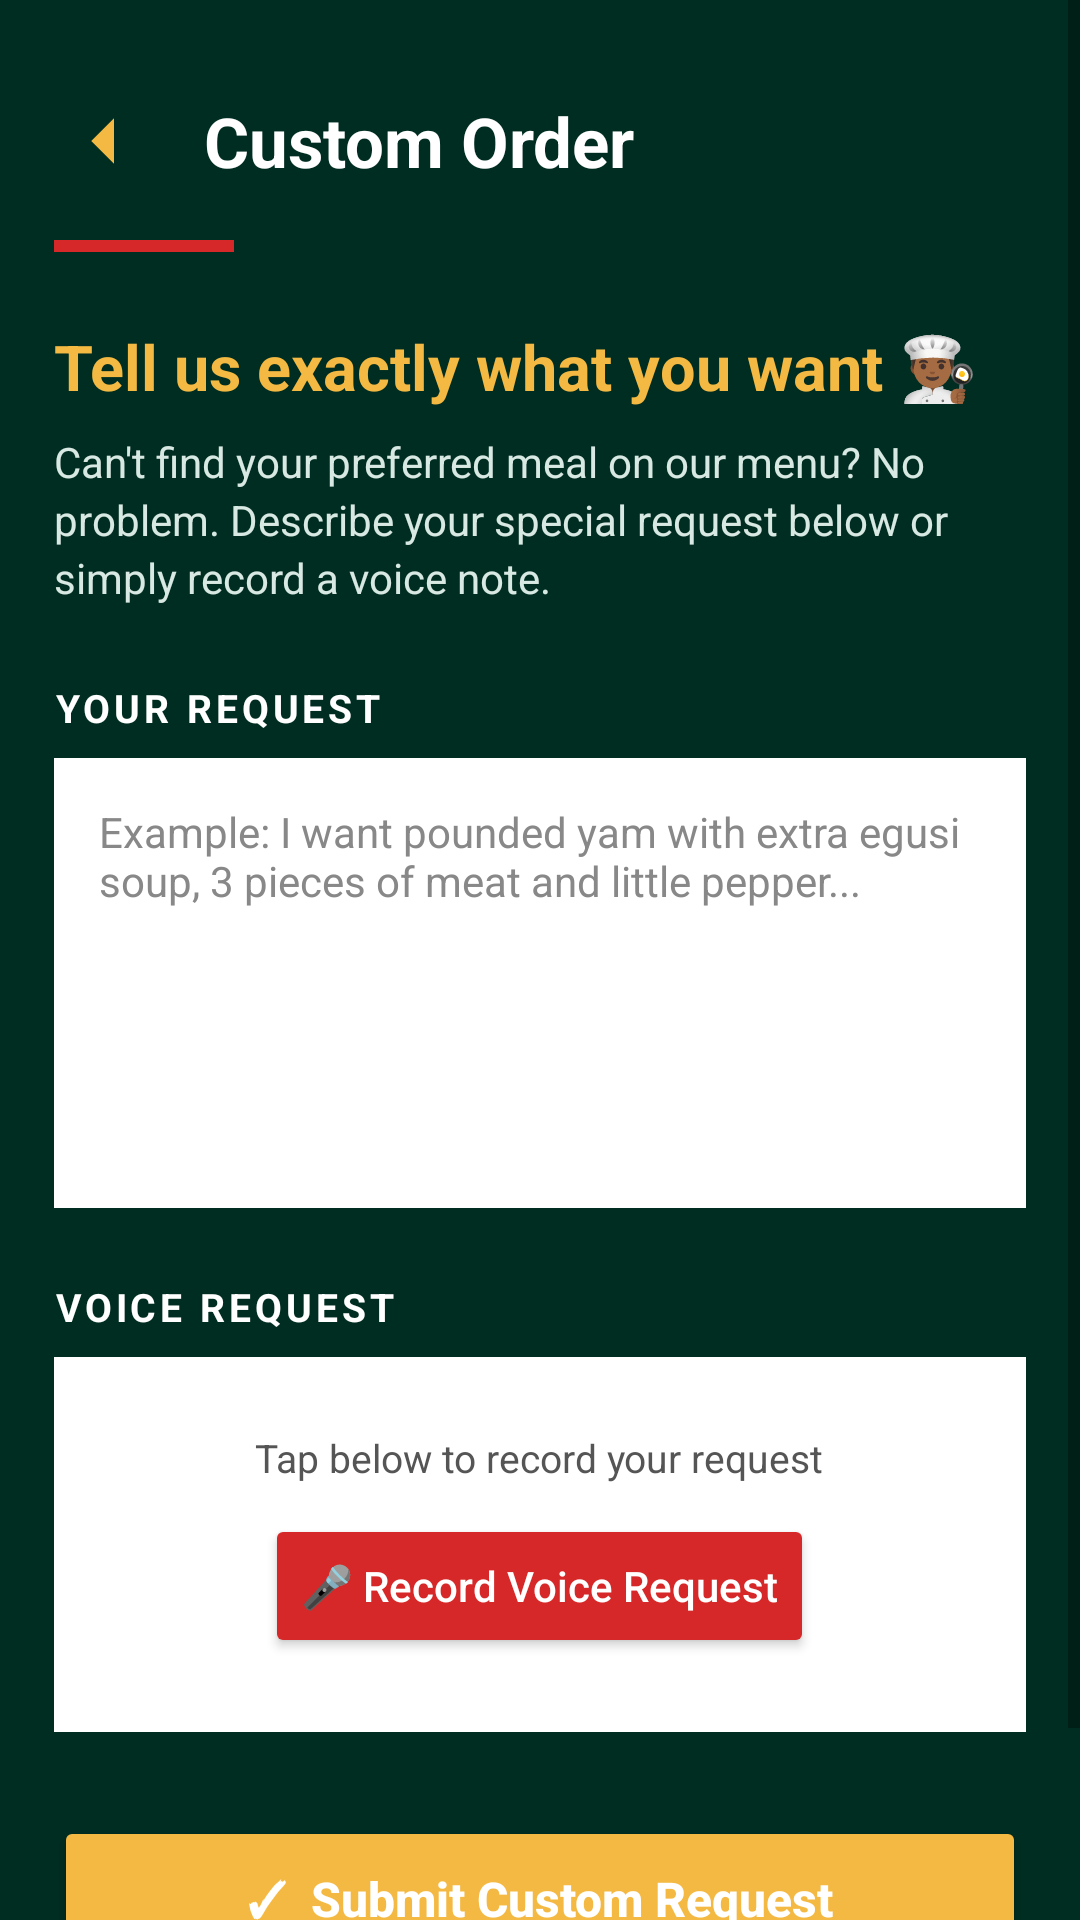

Named icons in this screenshot (1080px×1920px) and their bounding boxes, region(x1, y1, x2, y2):
Back: region(91, 118, 114, 164)
